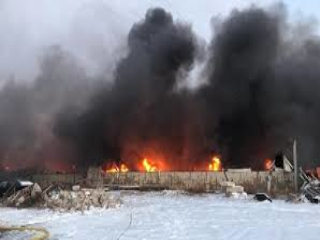fire: (140, 156, 169, 173), (112, 158, 135, 174), (208, 154, 225, 174)
smoke: (4, 21, 315, 153)
